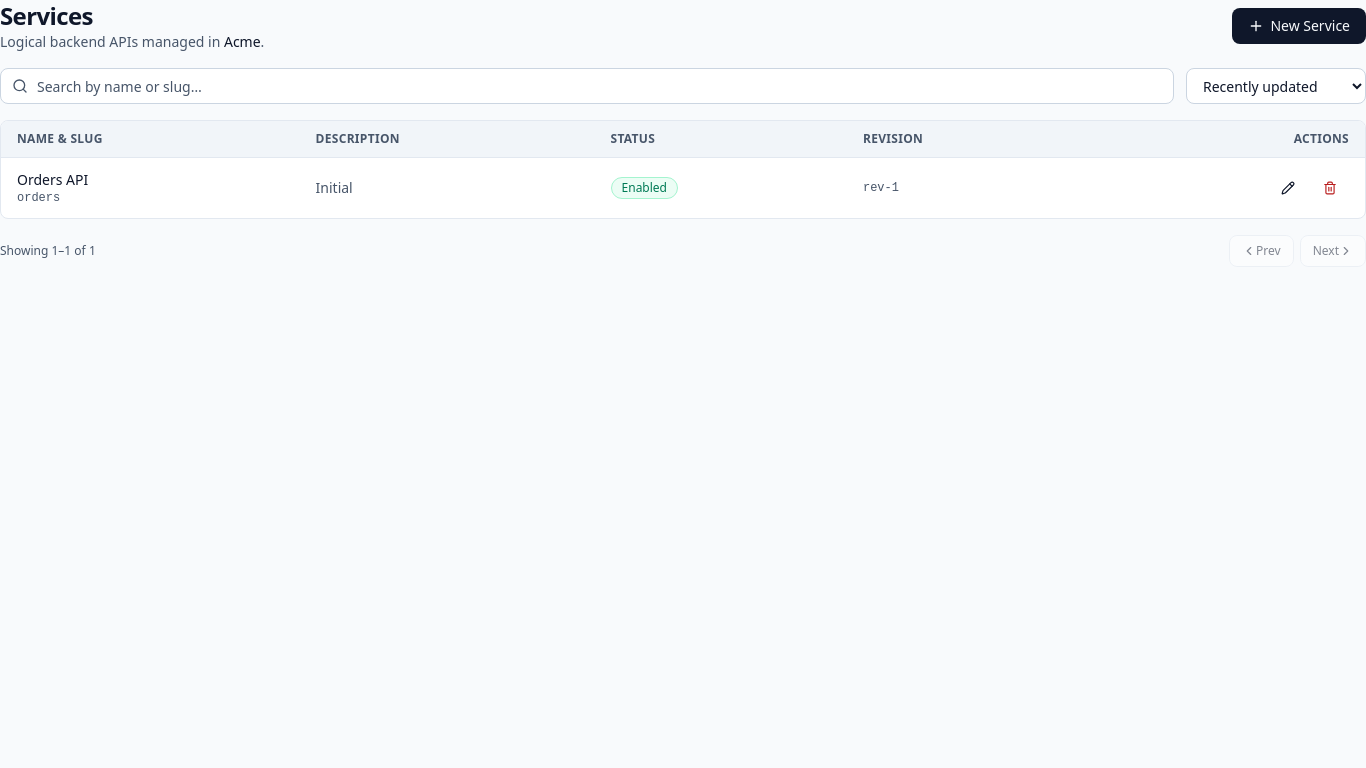
Test: Optimistic concurrency conflict resolution UX › handles 409 stale revision conflict, reloads latest rev-2 without overwriting peer edits, and saves cleanly
Expected: the text "Orders API" is shown, 17,170 -> 88,189
Click the button named "Edit Orders API" at (1288, 188), box 1269,172 -> 1307,204
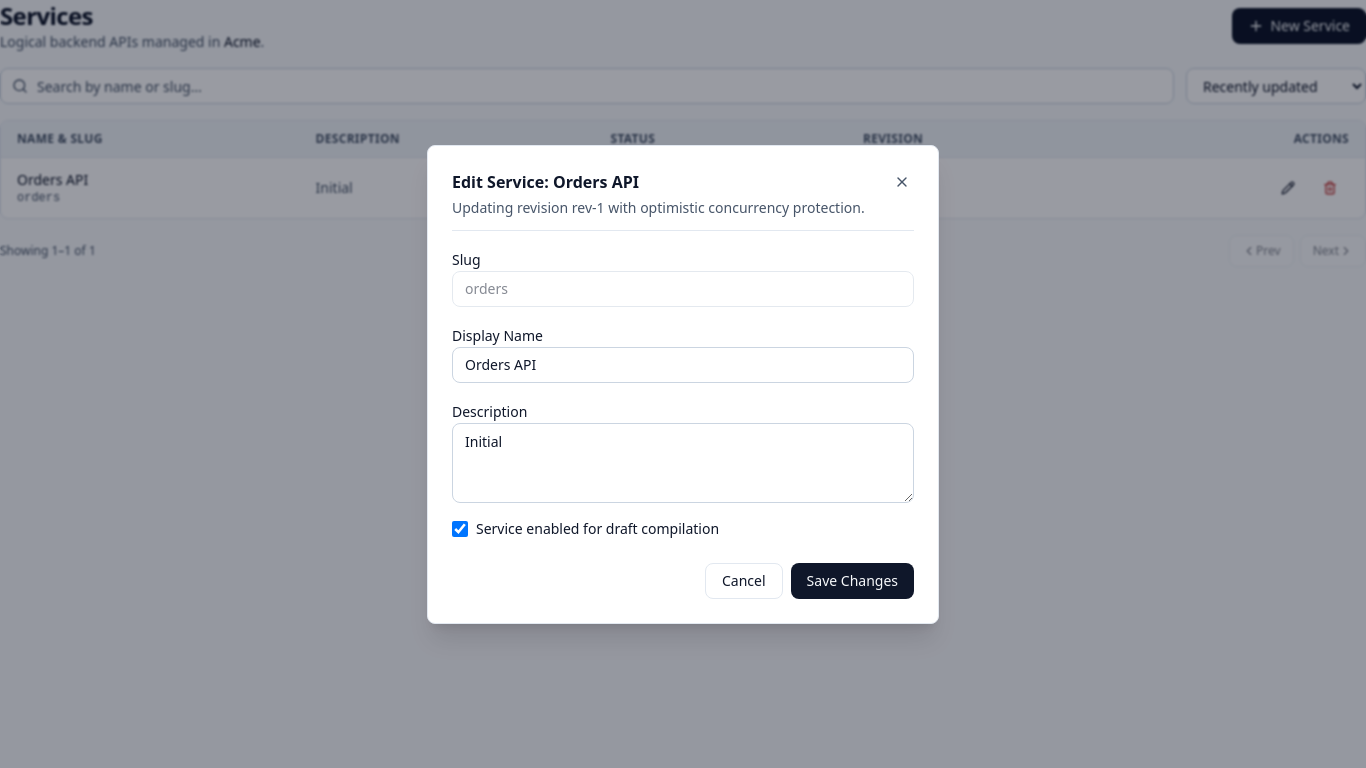
Type "Orders A Edit" into the field labelled "Display Name" at (683, 364), box 452,346 -> 914,382
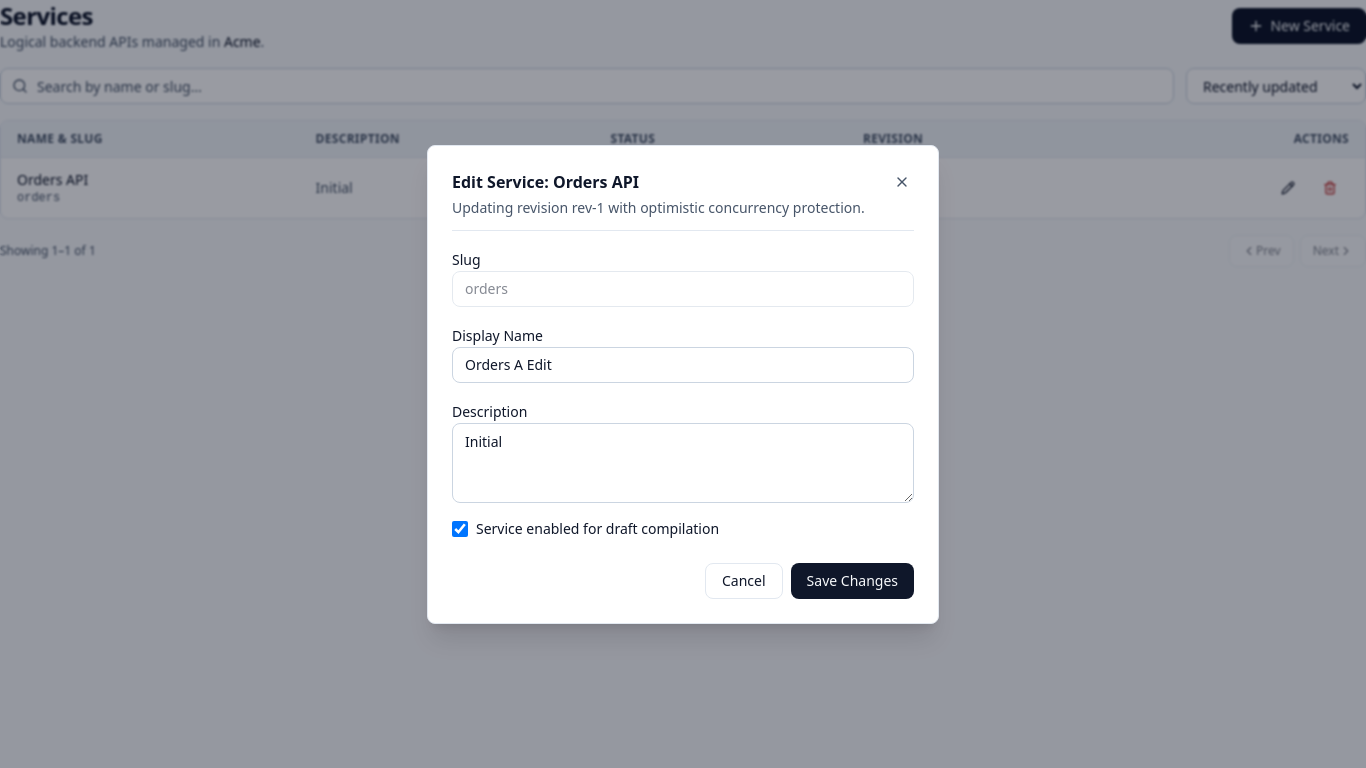
Click the button "Save Changes" at (852, 580), box 791,562 -> 914,598
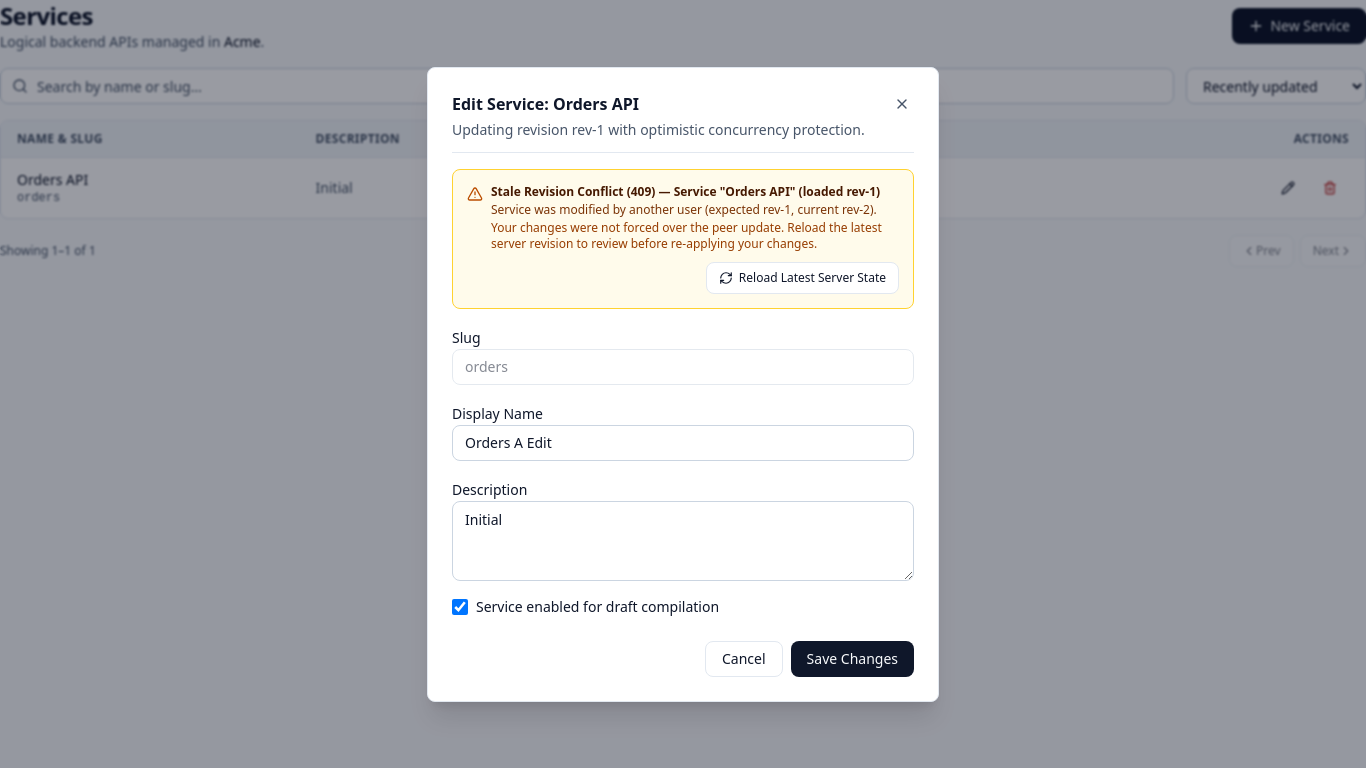
Now the message with test id "conflict-resolution-banner" is shown, box 452,168 -> 914,308
Now the text "Stale Revision Conflict (409)" is shown, box 491,182 -> 674,200
Reload latest server revision (rev-2)
Click the button "Reload Latest Server State" at (802, 278), box 706,262 -> 899,294
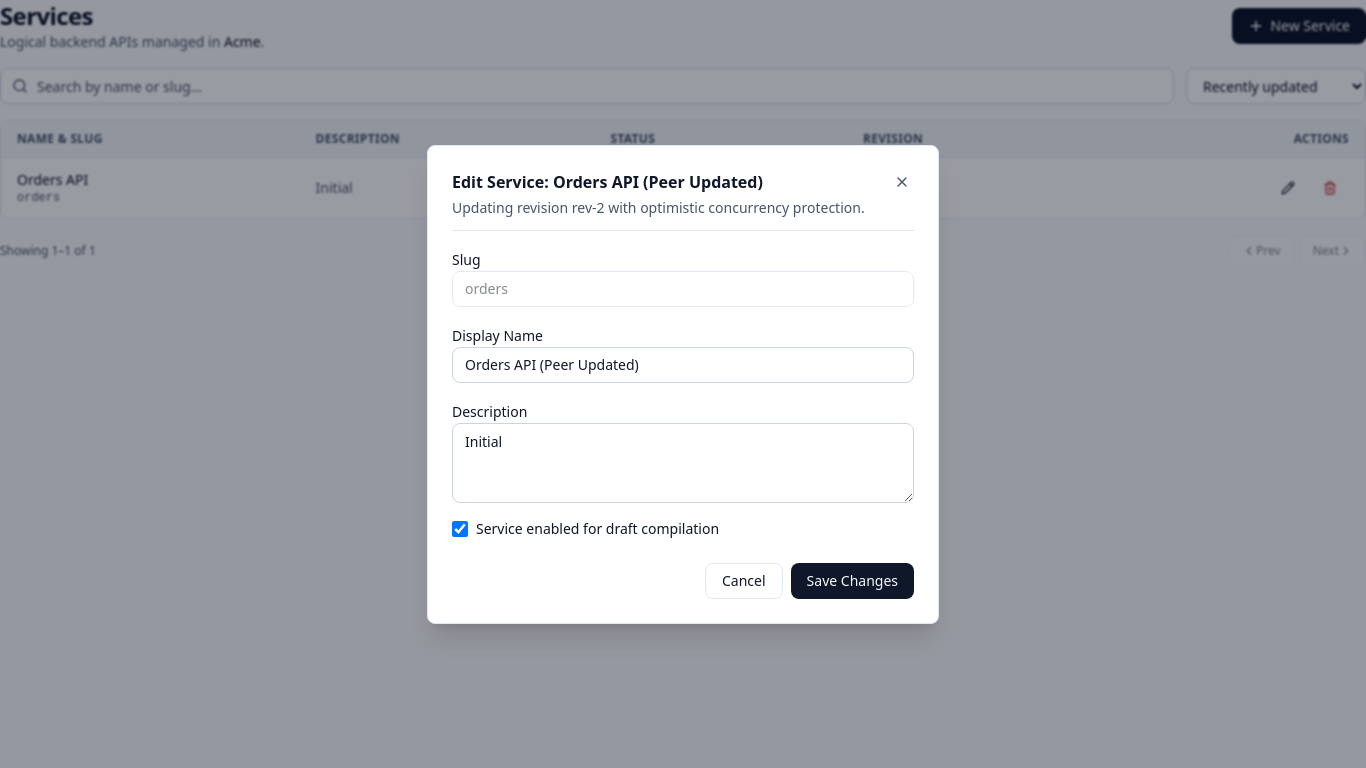
Now the field labelled "Display Name" holds "Orders API (Peer Updated)"
Replace the text in the field labelled "Display Name" with "Orders Merged v3" at (683, 364), box 452,346 -> 914,382
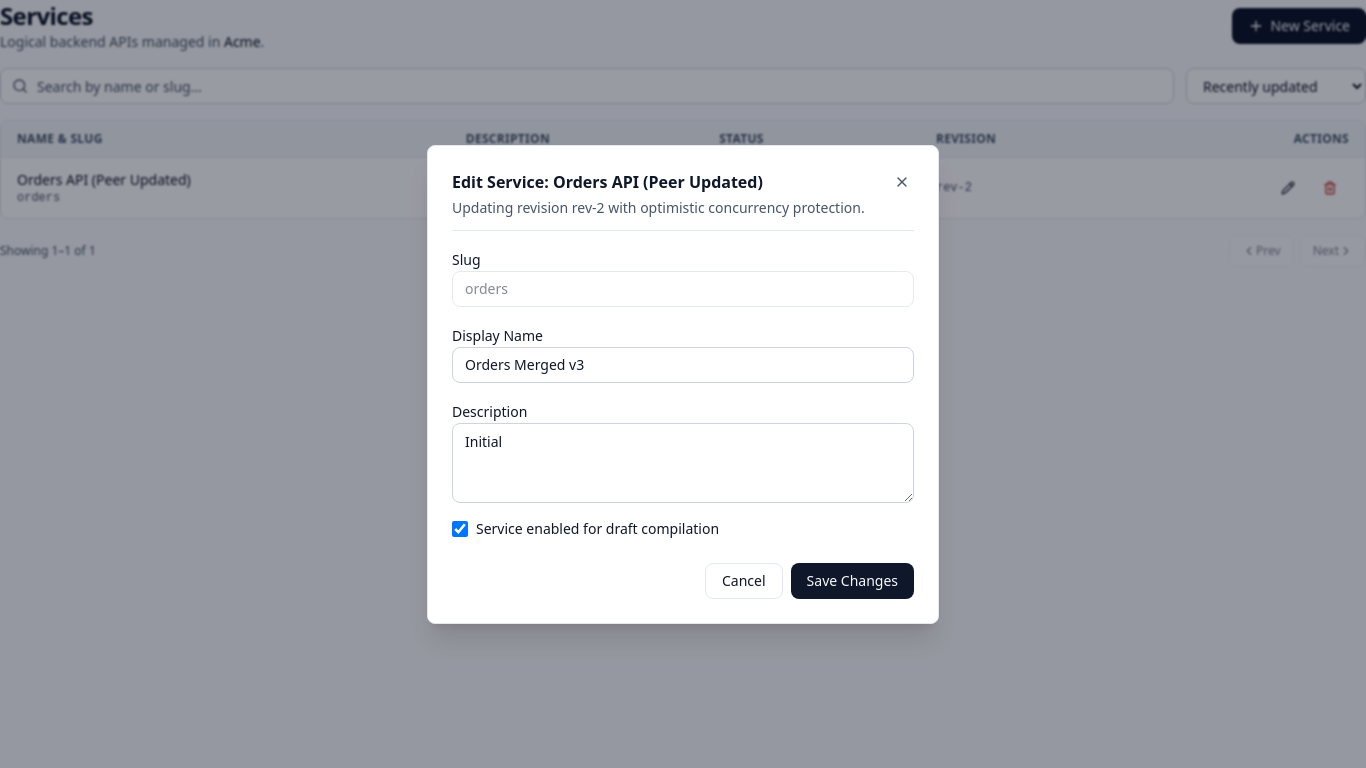
Click the button "Save Changes" at (852, 580), box 791,562 -> 914,598
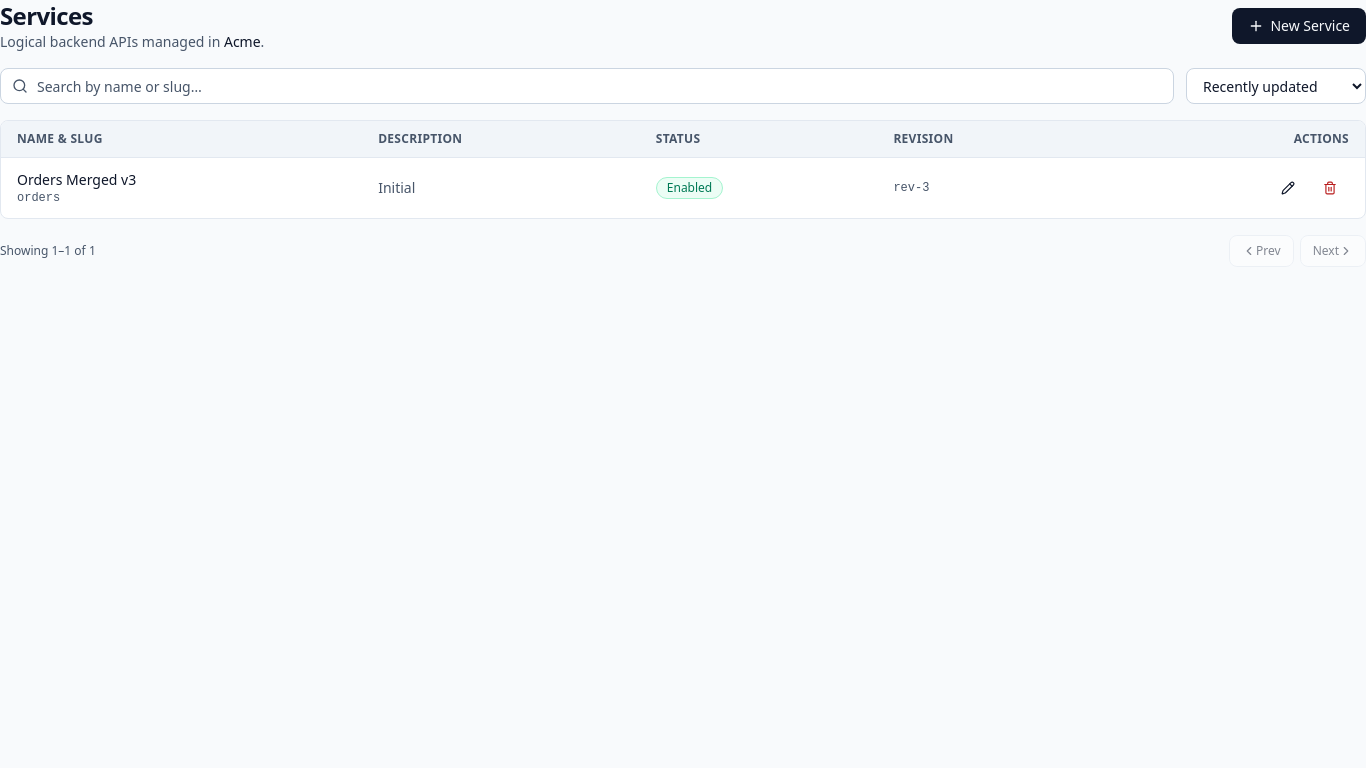
Now the text "Orders Merged v3" is shown, box 17,170 -> 136,189
